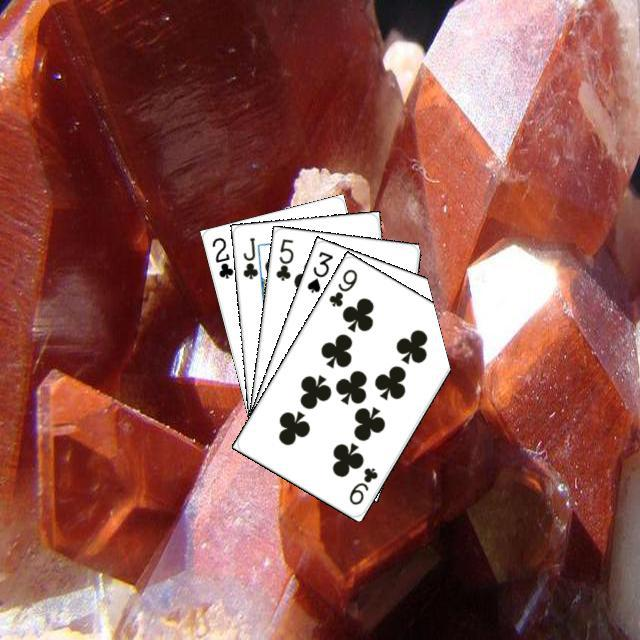2c: (207, 232, 235, 280)
3s: (302, 246, 335, 295)
5c: (271, 234, 295, 282)
9c: (344, 462, 380, 507), (324, 264, 359, 309)
Jc: (238, 232, 260, 281)
